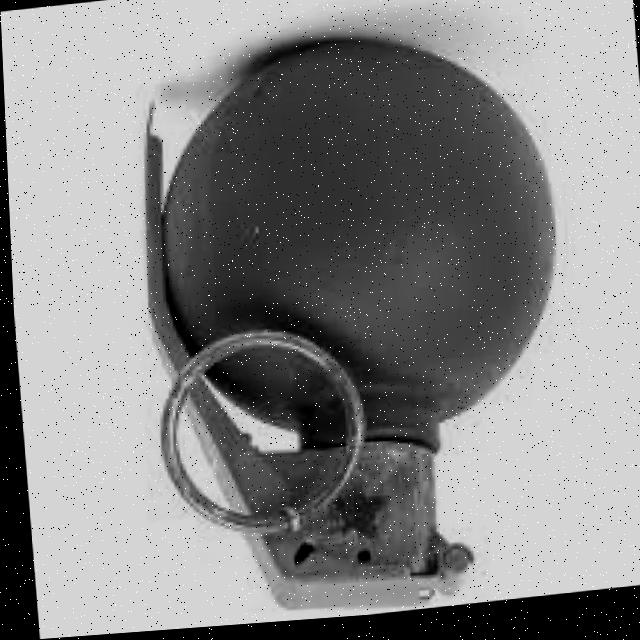grenade: (111, 17, 595, 634)
